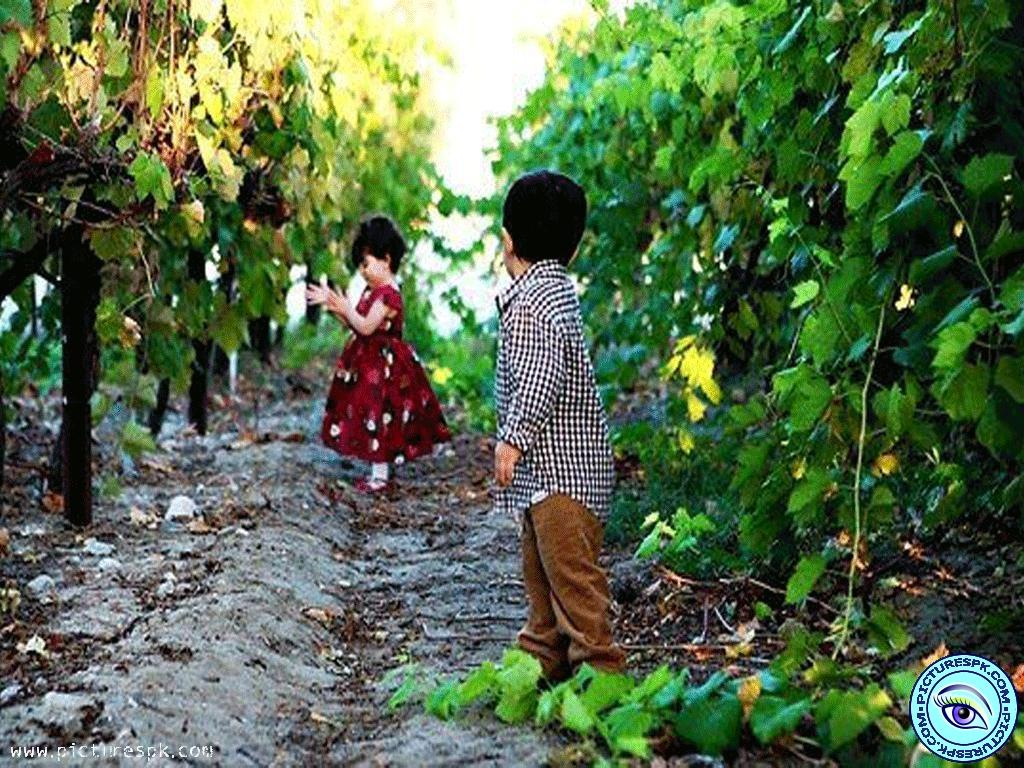face: (358, 250, 385, 288)
